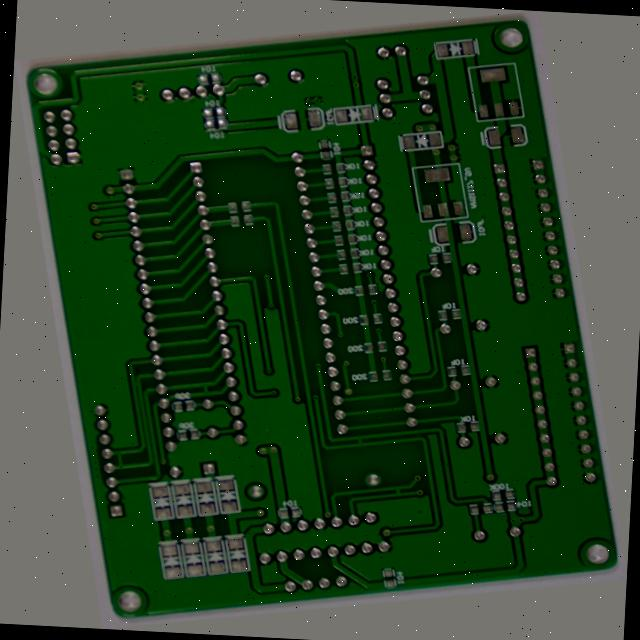short: (35, 426, 55, 453), (154, 365, 177, 386), (73, 349, 93, 367), (359, 511, 379, 529), (327, 450, 347, 468)
